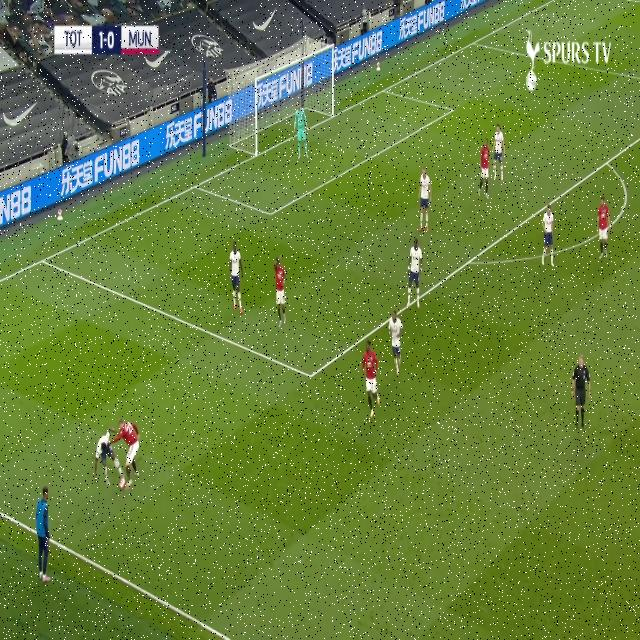Ball: (119, 478, 125, 488)
GoalKeeper: (295, 103, 310, 163)
TEAM 1: (119, 415, 143, 500), (362, 343, 382, 419), (598, 197, 612, 259), (274, 256, 286, 328), (478, 141, 492, 201)
TEAM 2: (95, 427, 124, 495), (406, 237, 424, 306), (228, 241, 244, 314), (388, 310, 404, 377), (541, 204, 557, 270), (418, 167, 432, 231), (495, 124, 507, 173)
